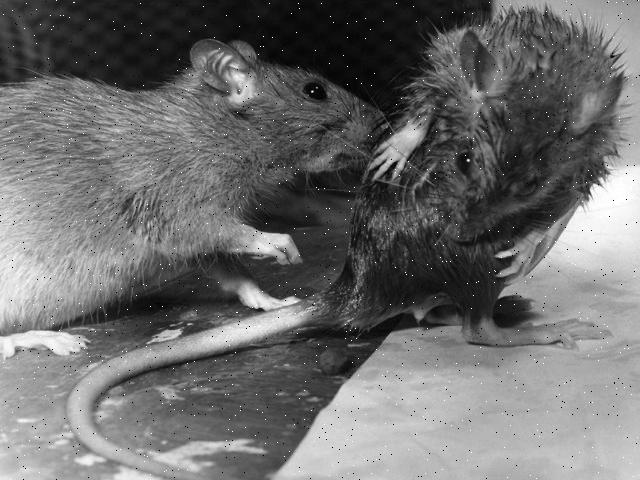Tikus: (1, 39, 384, 296), (383, 8, 615, 348)
